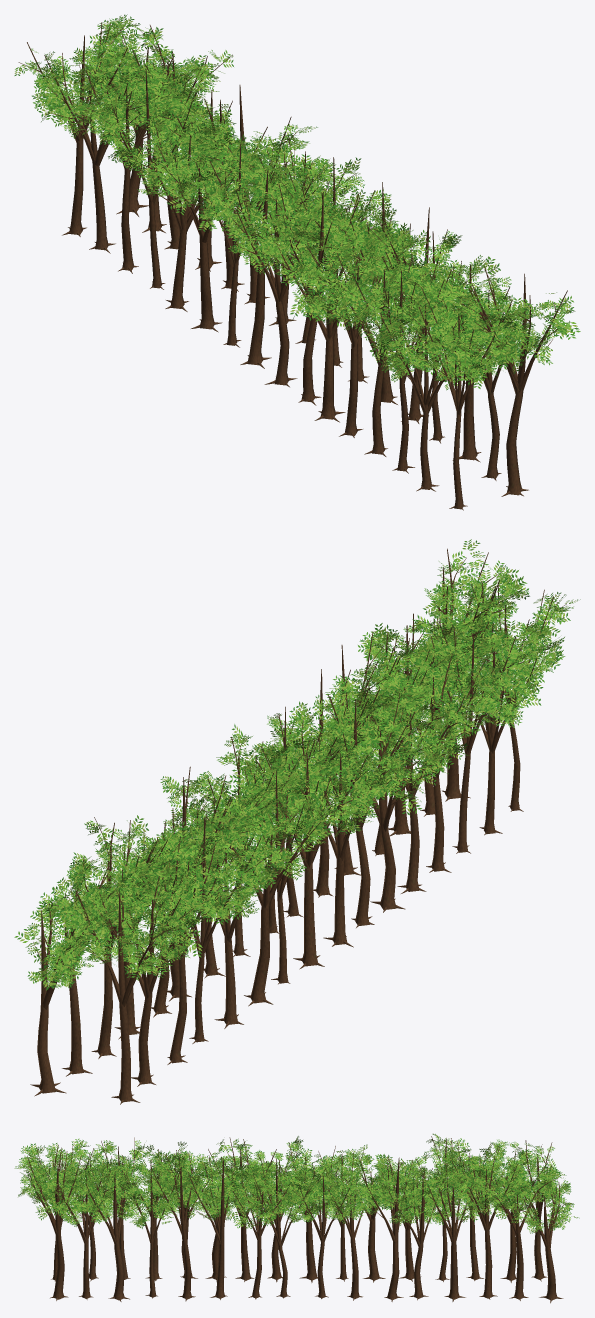
File: Mahogany_Cluster.glb
The picture shows the model from 3 angles, top to bottom: view 1: azimuth 30°, elevation 25°; view 2: azimuth 150°, elevation 25°; view 3: azimuth 270°, elevation 25°; orthographic projection. The views are drawn at different scales.
Parts seen in each view (by area): view 1: Mahogany R 01 wood textured, Mahogany L 08 wood textured, Mahogany L 15 wood textured, Mahogany L 02 wood textured, Mahogany L 16 wood textured, Mahogany L 01 wood textured, Mahogany L 07 wood textured, Mahogany L 11 wood textured, Mahogany L 09 wood textured, Mahogany L 12 wood textured, Mahogany L 14 wood textured, Mahogany L 06 wood textured (+14 smaller); view 2: Mahogany L 16 wood textured, Mahogany L 09 wood textured, Mahogany L 11 wood textured, Mahogany L 15 wood textured, Mahogany L 08 wood textured, Mahogany R 16 wood textured, Mahogany L 07 wood textured, Mahogany L 06 wood textured, Mahogany L 03 wood textured, Mahogany R 14 wood textured, Mahogany L 14 wood textured, Mahogany L 05 wood textured (+14 smaller); view 3: Mahogany R 01 wood textured, Mahogany R 14 wood textured, Mahogany R 11 wood textured, Mahogany R 03 wood textured, Mahogany R 13 wood textured, Mahogany R 06 wood textured, Mahogany R 05 wood textured, Mahogany R 16 wood textured, Mahogany R 08 wood textured, Mahogany R 12 wood textured, Mahogany R 15 wood textured, Mahogany R 02 wood textured (+20 smaller).
Boxes of the visible parts, left/top/right/bottom form: Mahogany R 01 wood textured: left=458, top=265, right=567, bottom=496; Mahogany L 08 wood textured: left=230, top=189, right=326, bottom=387; Mahogany L 15 wood textured: left=47, top=53, right=147, bottom=253; Mahogany L 02 wood textured: left=368, top=299, right=483, bottom=491; Mahogany L 16 wood textured: left=18, top=22, right=132, bottom=236; Mahogany L 01 wood textured: left=402, top=287, right=522, bottom=510; Mahogany L 07 wood textured: left=267, top=183, right=365, bottom=405; Mahogany L 11 wood textured: left=158, top=140, right=247, bottom=332; Mahogany L 09 wood textured: left=209, top=153, right=323, bottom=368; Mahogany L 12 wood textured: left=127, top=125, right=247, bottom=311; Mahogany L 14 wood textured: left=81, top=62, right=171, bottom=273; Mahogany L 06 wood textured: left=272, top=244, right=371, bottom=422; Mahogany L 16 wood textured: left=65, top=869, right=195, bottom=1104; Mahogany L 09 wood textured: left=257, top=730, right=368, bottom=969; Mahogany L 11 wood textured: left=206, top=801, right=320, bottom=1006; Mahogany L 15 wood textured: left=94, top=872, right=196, bottom=1086; Mahogany L 08 wood textured: left=285, top=736, right=391, bottom=947; Mahogany R 16 wood textured: left=30, top=896, right=106, bottom=1096; Mahogany L 07 wood textured: left=324, top=692, right=429, bottom=927; Mahogany L 06 wood textured: left=326, top=717, right=429, bottom=912; Mahogany L 03 wood textured: left=427, top=621, right=524, bottom=853; Mahogany R 14 wood textured: left=72, top=817, right=171, bottom=1058; Mahogany L 14 wood textured: left=135, top=836, right=243, bottom=1064; Mahogany L 05 wood textured: left=351, top=672, right=472, bottom=893; Mahogany R 01 wood textured: left=25, top=1145, right=89, bottom=1300; Mahogany R 14 wood textured: left=452, top=1153, right=521, bottom=1299; Mahogany R 11 wood textured: left=362, top=1157, right=422, bottom=1301; Mahogany R 03 wood textured: left=82, top=1164, right=140, bottom=1301; Mahogany R 13 wood textured: left=428, top=1173, right=481, bottom=1301; Mahogany R 06 wood textured: left=187, top=1155, right=235, bottom=1299; Mahogany R 05 wood textured: left=148, top=1150, right=199, bottom=1301; Mahogany R 16 wood textured: left=513, top=1182, right=568, bottom=1303; Mahogany R 08 wood textured: left=246, top=1158, right=317, bottom=1298; Mahogany R 12 wood textured: left=383, top=1167, right=443, bottom=1300; Mahogany R 15 wood textured: left=483, top=1170, right=557, bottom=1300; Mahogany R 02 wood textured: left=53, top=1169, right=116, bottom=1299.
Bounding box in the file's own units: 22.15 × 26.26 × 95.88.
5 materials, 1 textured.
